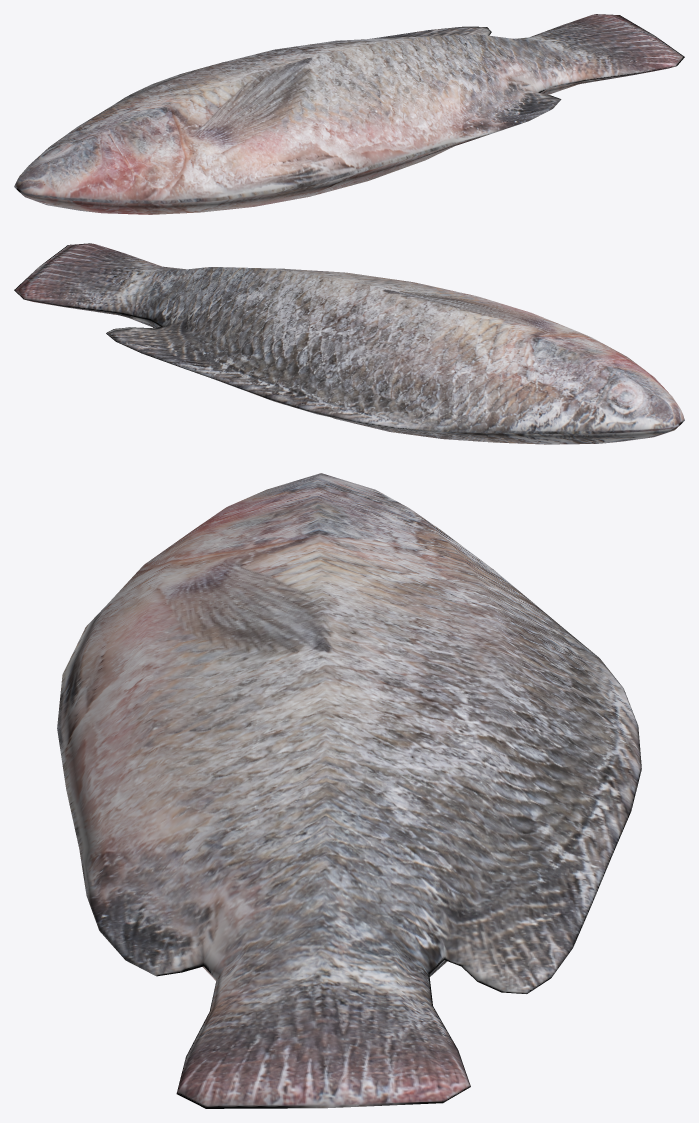
File: Ikan Beku.fbx
3 views of the same model, one above another, from view 1: azimuth 30°, elevation 25°; view 2: azimuth 150°, elevation 25°; view 3: azimuth 270°, elevation 25° (orthographic). The views are drawn at different scales.
Visible parts, largest first — view 1: Ikan beku; view 2: Ikan beku; view 3: Ikan beku.
Part boxes in pixels (left/top/right/bottom): Ikan beku: left=14, top=14, right=684, bottom=214; Ikan beku: left=14, top=243, right=684, bottom=444; Ikan beku: left=57, top=473, right=641, bottom=1108.
Bounding box in the file's own units: 21.86 × 4.04 × 8.68.
1 material, 1 textured.
